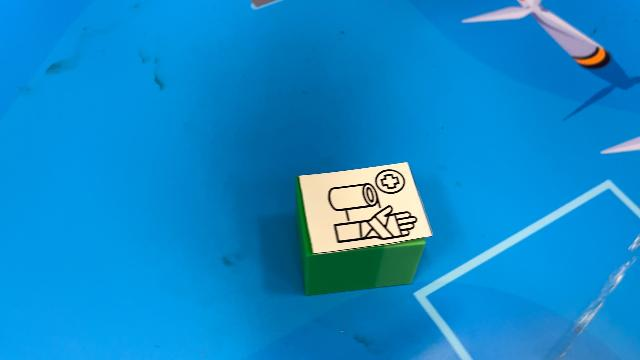bandage: (294, 160, 434, 296)
